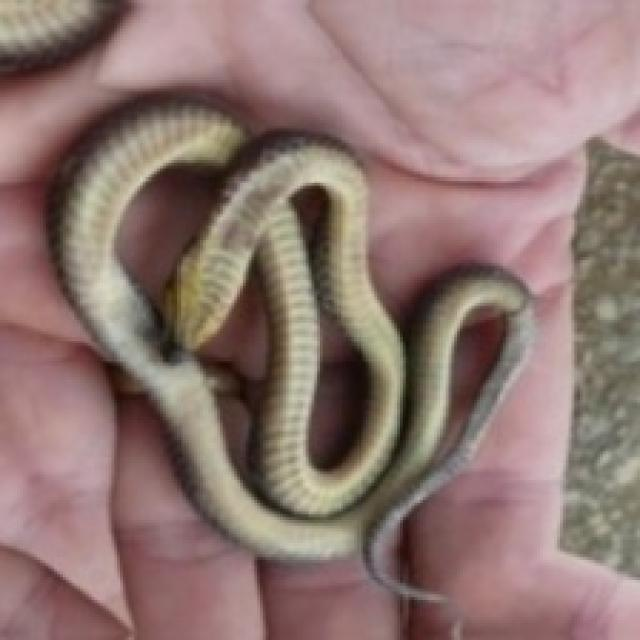gunthers philippine shrub snake: (49, 91, 531, 600), (117, 166, 217, 300), (309, 311, 366, 460), (200, 277, 269, 397)
